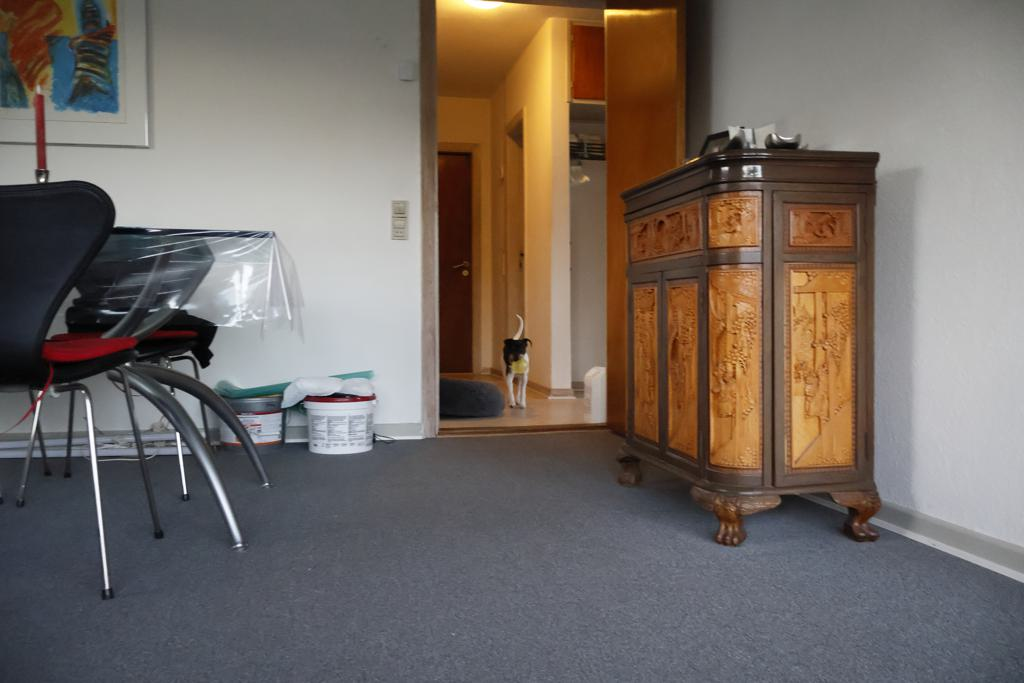Dog: (493, 308, 538, 414)
